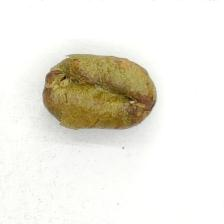NG: (44, 54, 153, 129)
